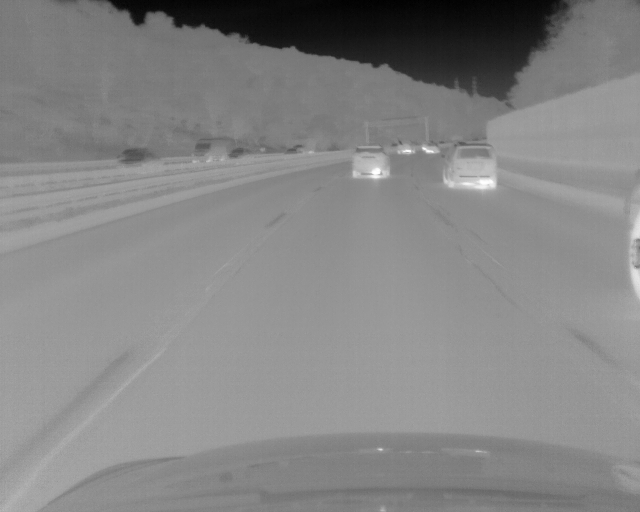car: (441, 145, 497, 189), (622, 184, 640, 299), (352, 146, 390, 178), (192, 138, 226, 163), (116, 148, 160, 167), (230, 146, 250, 158), (397, 142, 414, 155), (283, 147, 300, 155), (426, 143, 439, 153), (422, 143, 426, 152)
